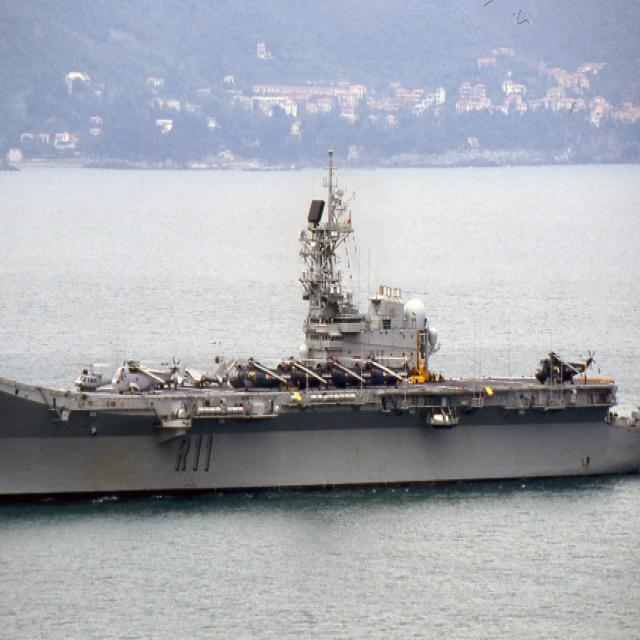Portanaves: (1, 161, 640, 511)
